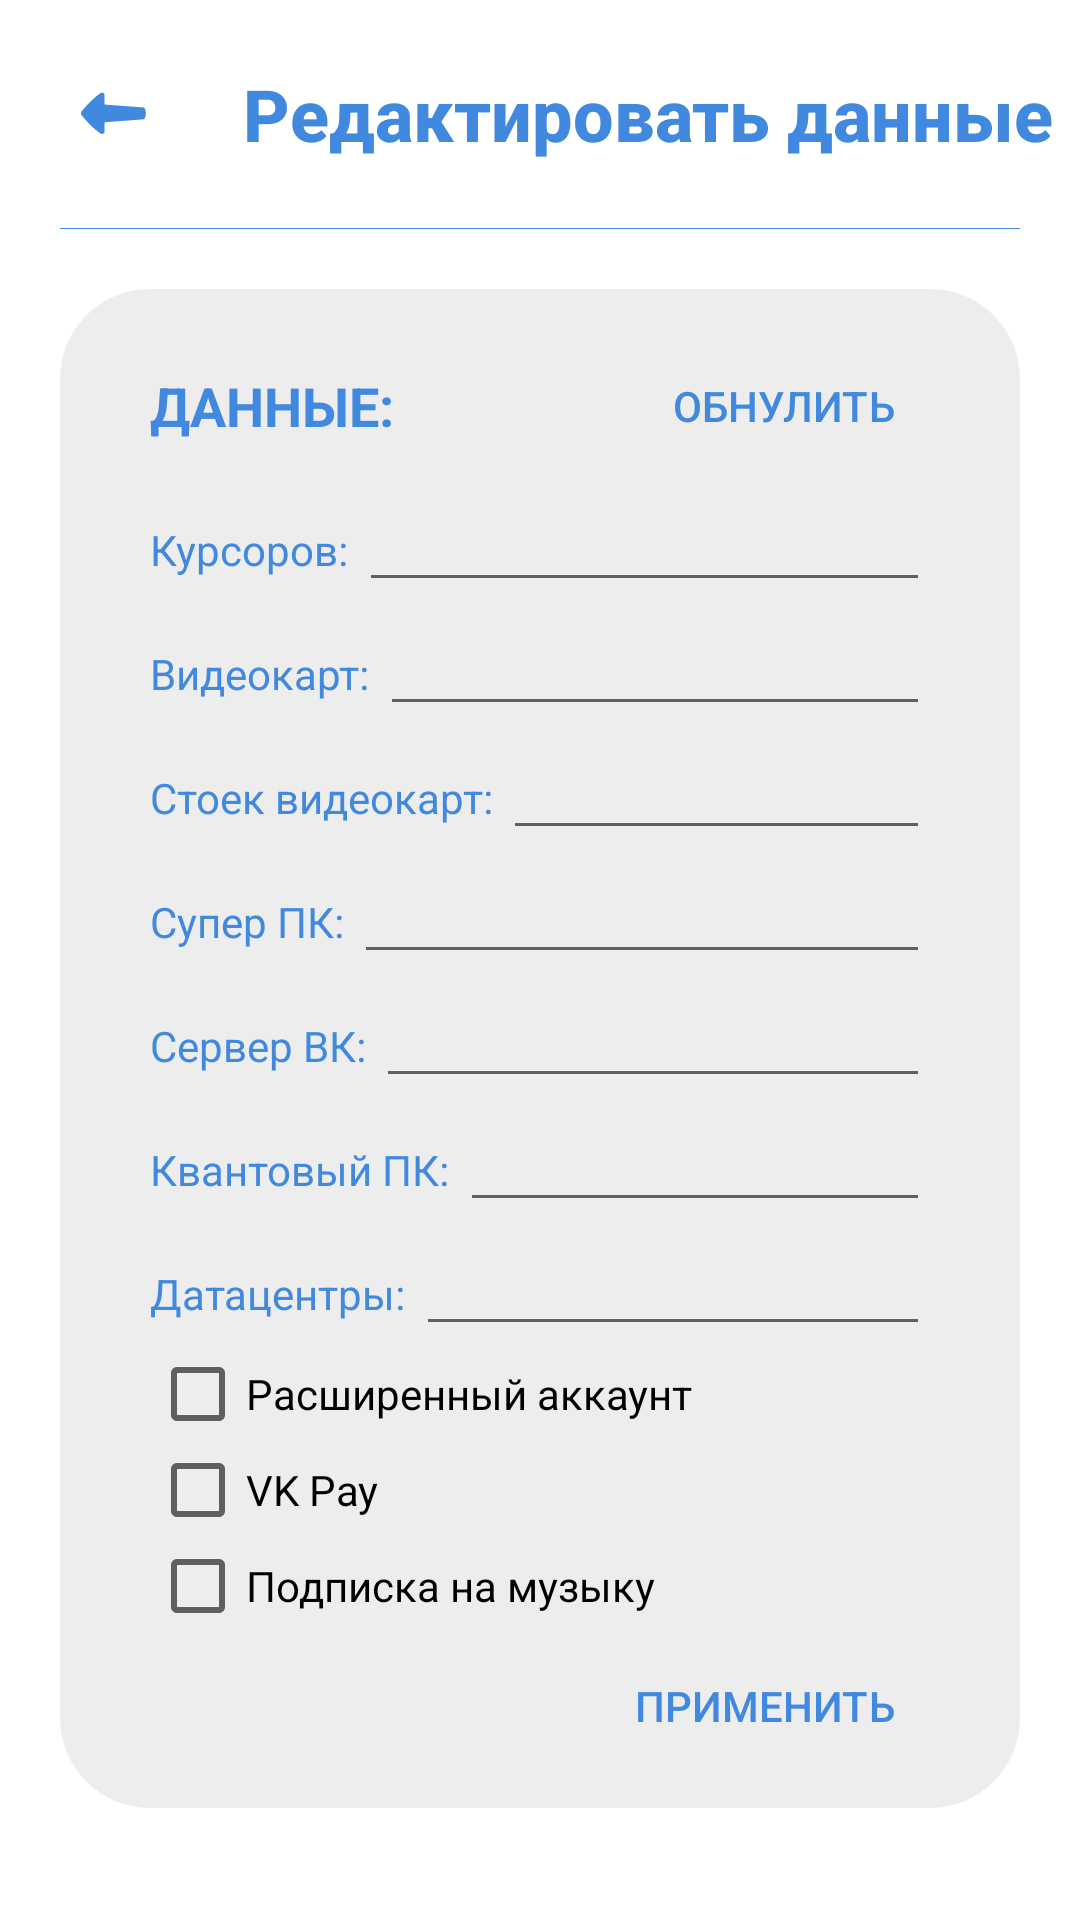

Where icons sit on this 1080w x 1920h app screen, as [x1,y1,x2,y2]:
left arrow: [81,92,146,134]
